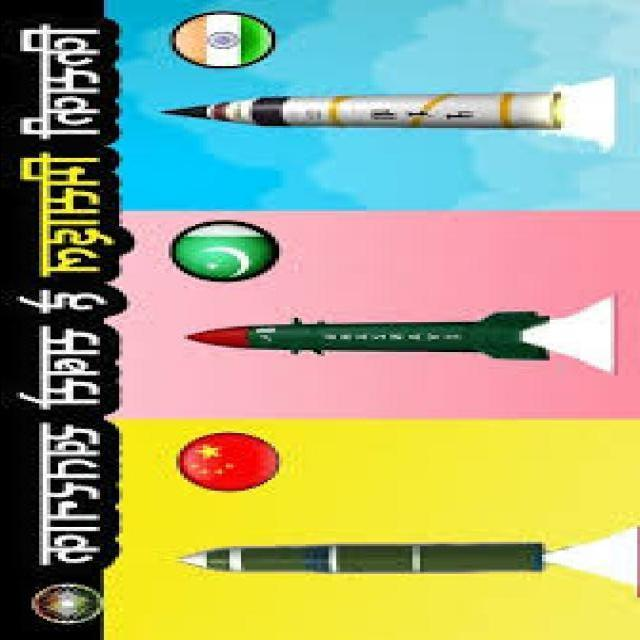Missile: (158, 90, 573, 134), (174, 314, 553, 361), (165, 543, 557, 576)
